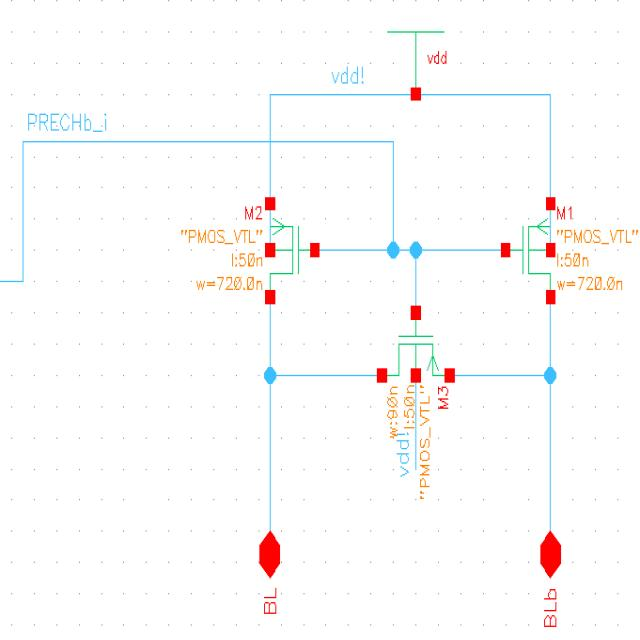pmos: (262, 191, 328, 312), (499, 193, 560, 311), (372, 306, 459, 388)
